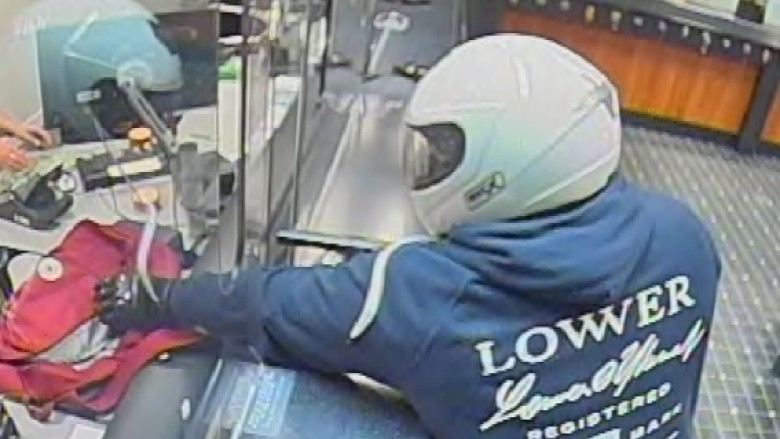helmet: (389, 24, 640, 250)
